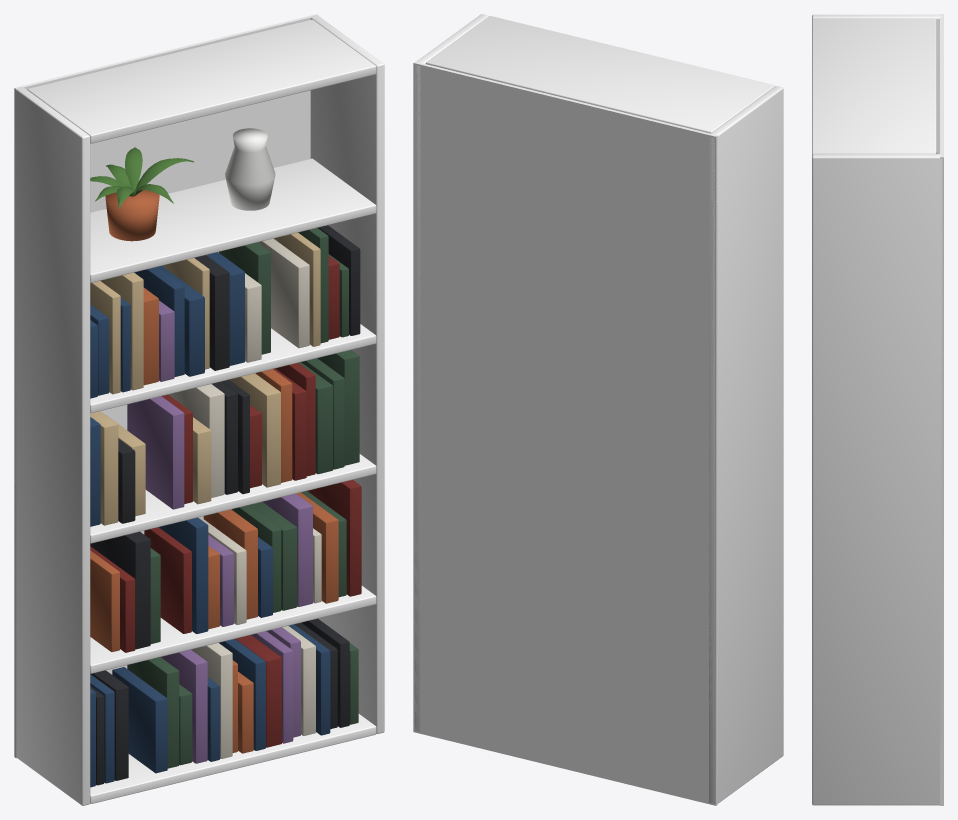
File: estante.glb
3 views of the same model, side by side, from view 1: azimuth 30°, elevation 25°; view 2: azimuth 150°, elevation 25°; view 3: azimuth 270°, elevation 25° (orthographic). The views are drawn at different scales.
Visible parts, largest first — view 1: p; view 2: p; view 3: p.
Part boxes in pixels (bbox=[...]): p: bbox=[14, 14, 384, 805]; p: bbox=[413, 14, 783, 805]; p: bbox=[812, 14, 943, 805].
Bounding box in the file's own units: 0.9 × 1.9 × 0.35.
